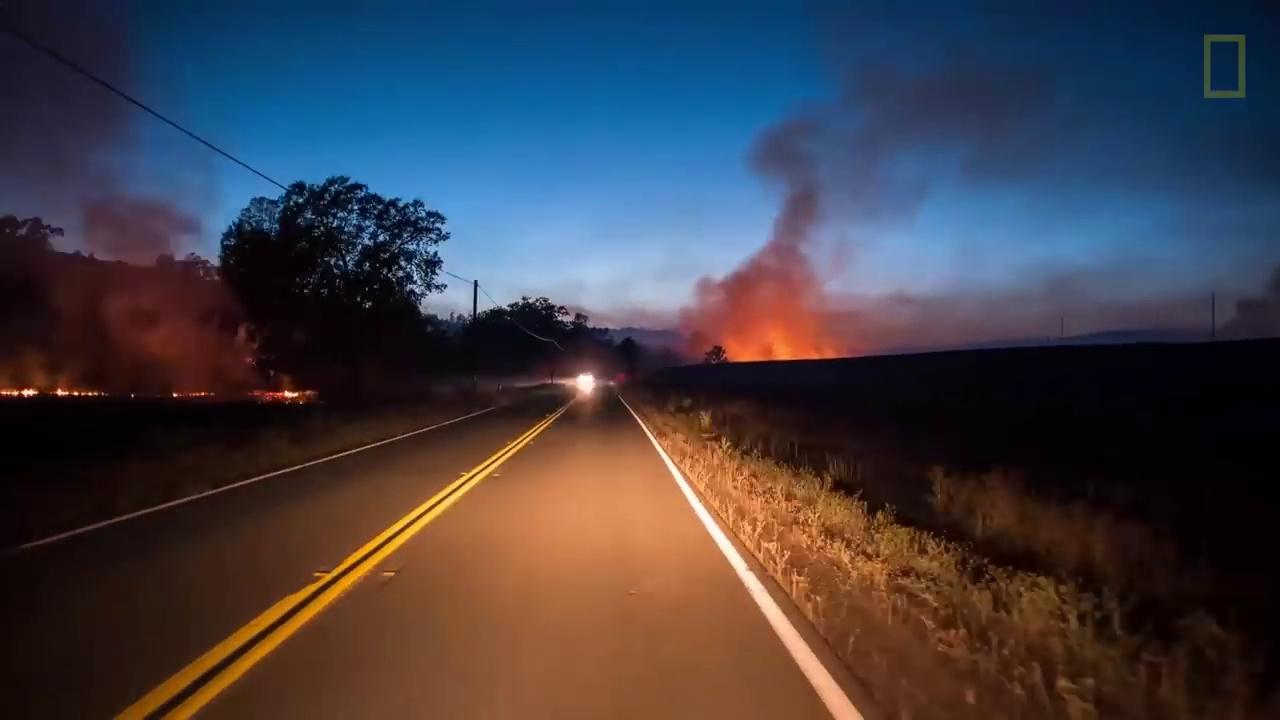Fire: (259, 387, 301, 400), (5, 385, 40, 399), (56, 388, 104, 398)
